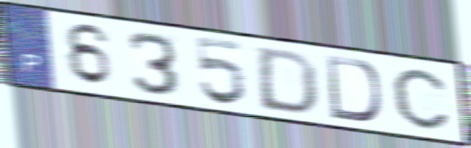3: (126, 30, 184, 98)
5: (194, 34, 250, 108)
6: (63, 21, 113, 88)
C: (390, 66, 452, 131)
D: (256, 45, 321, 117), (323, 53, 384, 124)
